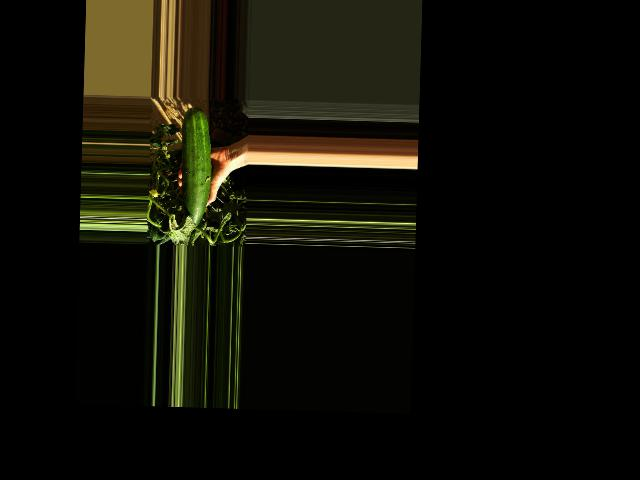cucumber: (179, 106, 213, 229)
